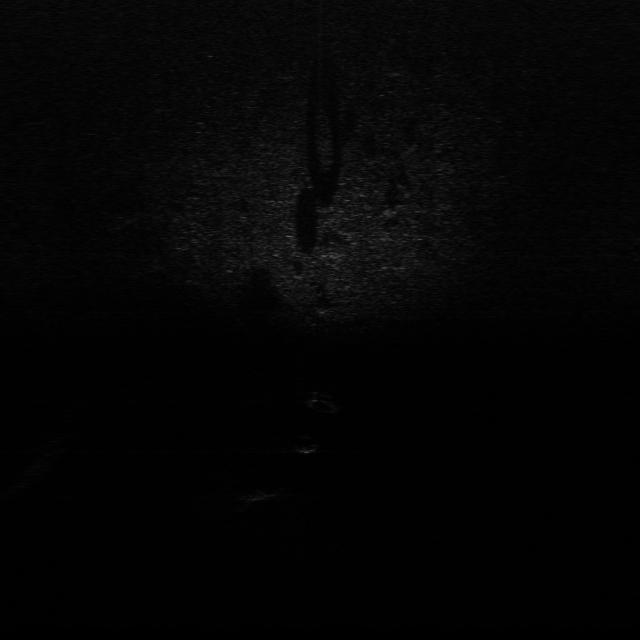ball: (293, 433, 319, 453)
square cage: (241, 484, 287, 506)
tyre: (301, 390, 347, 417)
